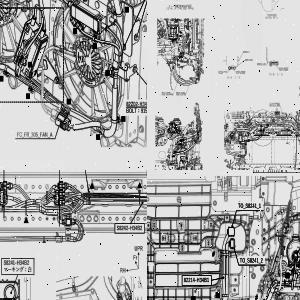PartNumber: (3, 260, 30, 266), (116, 225, 142, 231), (183, 277, 209, 283), (125, 100, 147, 106), (140, 108, 147, 114), (161, 92, 171, 94), (218, 70, 228, 72), (176, 92, 185, 94), (279, 67, 288, 69), (236, 71, 246, 72)
